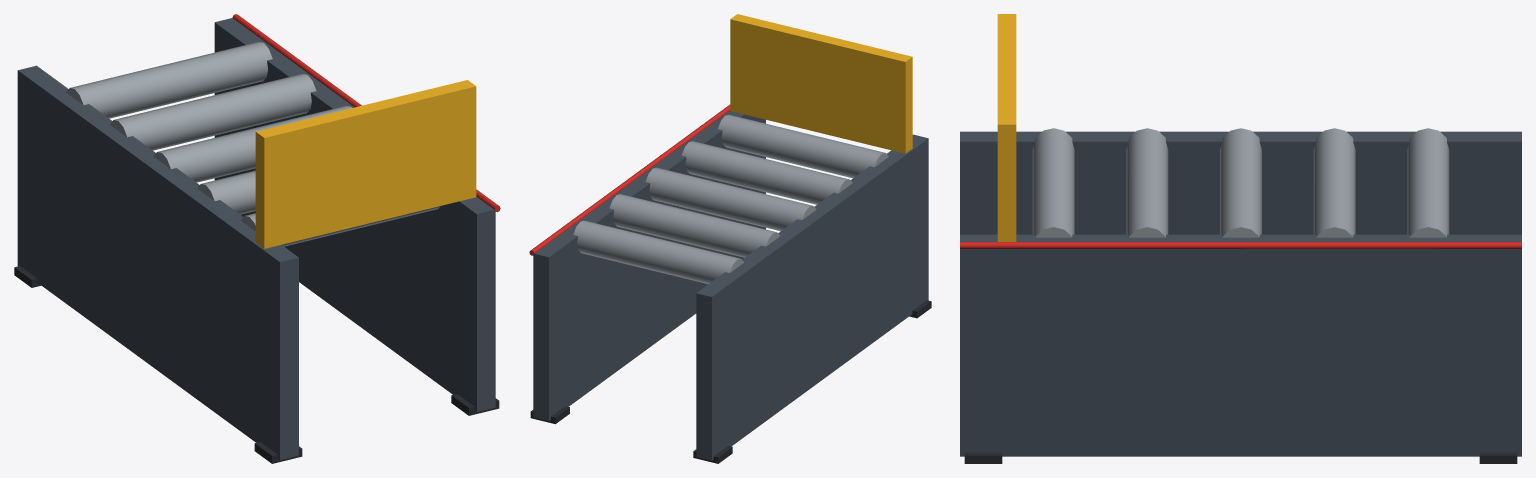
File: equipment--conveyorSection.glb
3 renders of one model, left to right at view 1: azimuth 30°, elevation 25°; view 2: azimuth 150°, elevation 25°; view 3: azimuth 270°, elevation 25°, orthographic. The views are drawn at different scales.
Visible parts, largest first — view 1: conveyorSection:shell, guard, estopCord; view 2: conveyorSection:shell, guard, estopCord; view 3: conveyorSection:shell, guard, estopCord.
Part boxes in pixels (left/top/right/bottom): conveyorSection:shell: left=14, top=18, right=499, bottom=463; guard: left=255, top=80, right=476, bottom=248; estopCord: left=232, top=14, right=500, bottom=212; conveyorSection:shell: left=530, top=110, right=931, bottom=463; guard: left=730, top=14, right=912, bottom=153; estopCord: left=529, top=104, right=730, bottom=255; conveyorSection:shell: left=960, top=128, right=1521, bottom=463; guard: left=997, top=14, right=1016, bottom=241; estopCord: left=960, top=242, right=1521, bottom=248.
Bounding box in the file's own units: 0.6 × 0.79 × 1.2.
